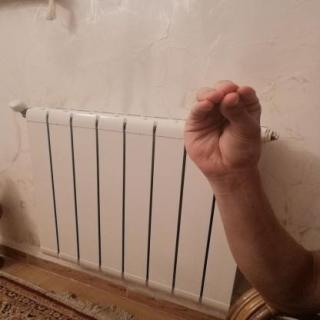HA: (173, 73, 274, 184)
